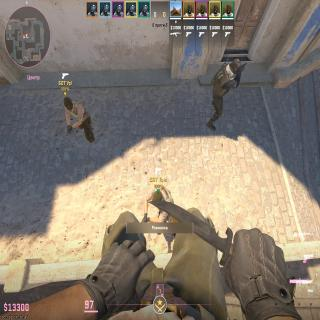CT-Body: (213, 58, 240, 116)
CT-Head: (231, 57, 241, 74)
T-Body: (63, 96, 92, 142), (145, 184, 174, 203)
T-Head: (152, 190, 162, 202), (64, 97, 73, 110)
